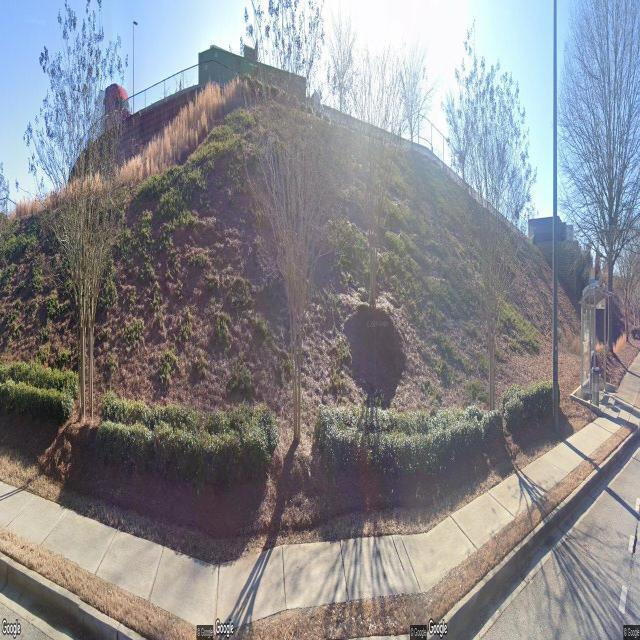shelter: (578, 284, 614, 400)
trash_can: (592, 366, 600, 406)
